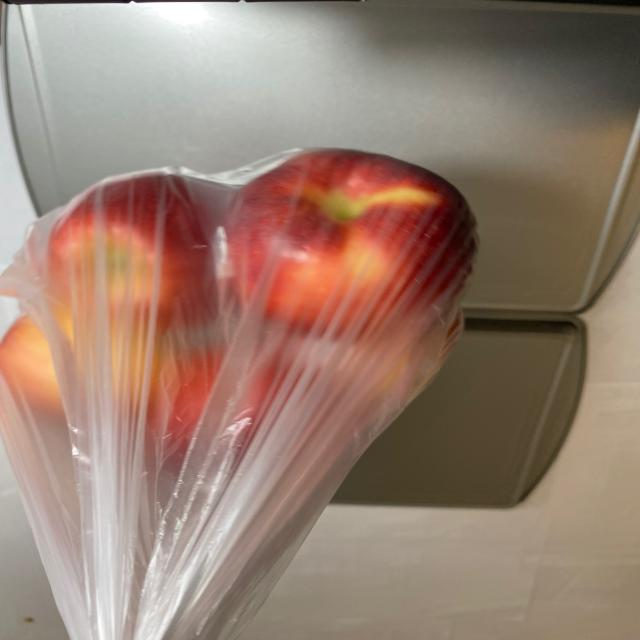apple: (2, 143, 486, 511)
